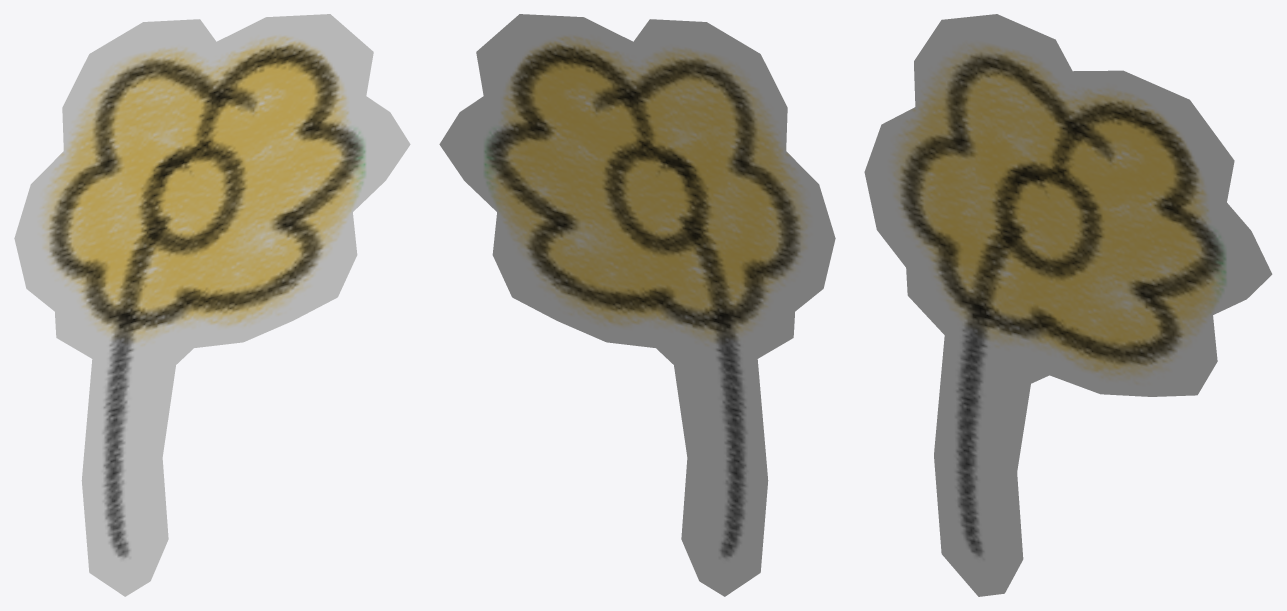
File: BlommaGul.fbx
3 renders of one model, left to right at view 1: azimuth 30°, elevation 25°; view 2: azimuth 150°, elevation 25°; view 3: azimuth 330°, elevation 25°, orthographic. The views are drawn at different scales.
Visible parts, largest first — view 1: blommagul; view 2: blommagul; view 3: blommagul.
Boxes of the visible parts, <box> form: blommagul: <box>14,14,410,596</box>; blommagul: <box>439,14,835,596</box>; blommagul: <box>864,14,1272,596</box>.
Bounding box in the file's own units: 22.33 × 30.73 × 4.98e-06.
Materials: 1 (1 with a texture image).
